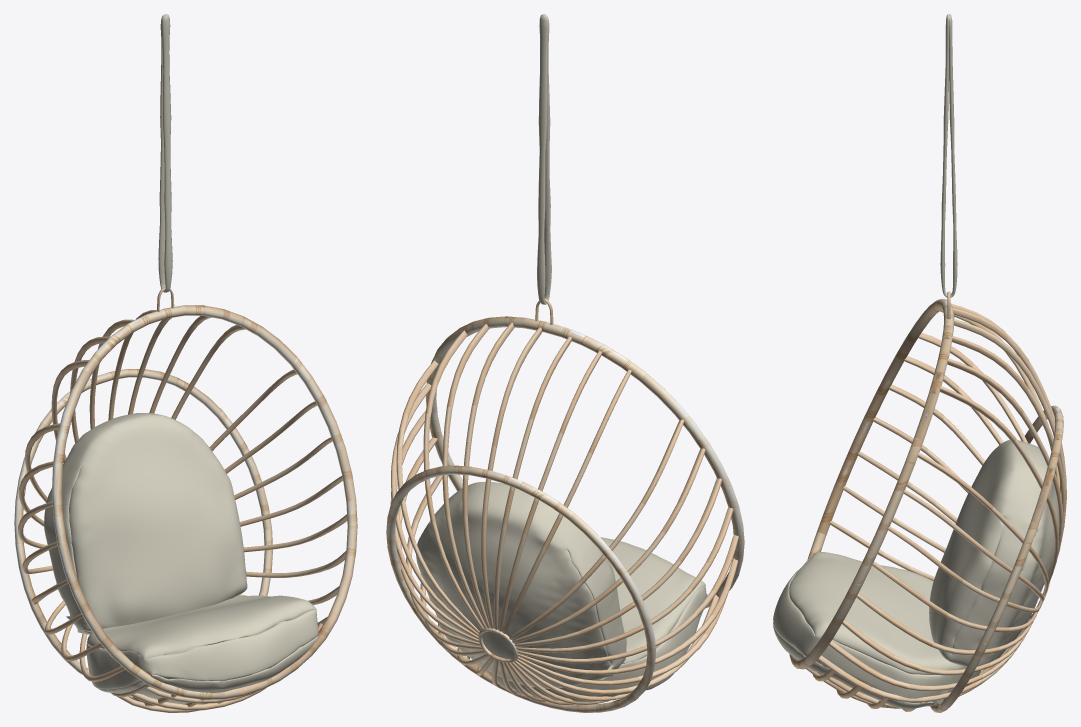
3 renders of one model, left to right at view 1: azimuth 30°, elevation 25°; view 2: azimuth 150°, elevation 25°; view 3: azimuth 270°, elevation 25°, orthographic. The views are drawn at different scales.
Visible parts, largest first — view 1: Retopo_F_cloth_panel.001; view 2: Retopo_F_cloth_panel.001; view 3: Retopo_F_cloth_panel.001.
Part boxes in pixels (box(x1,y1,x2,y2)): Retopo_F_cloth_panel.001: box(14, 14, 357, 712); Retopo_F_cloth_panel.001: box(386, 14, 744, 712); Retopo_F_cloth_panel.001: box(773, 14, 1066, 712).
Bounding box in the file's own units: 1.05 × 2.26 × 0.8805.
Materials: 2 (1 with a texture image).
